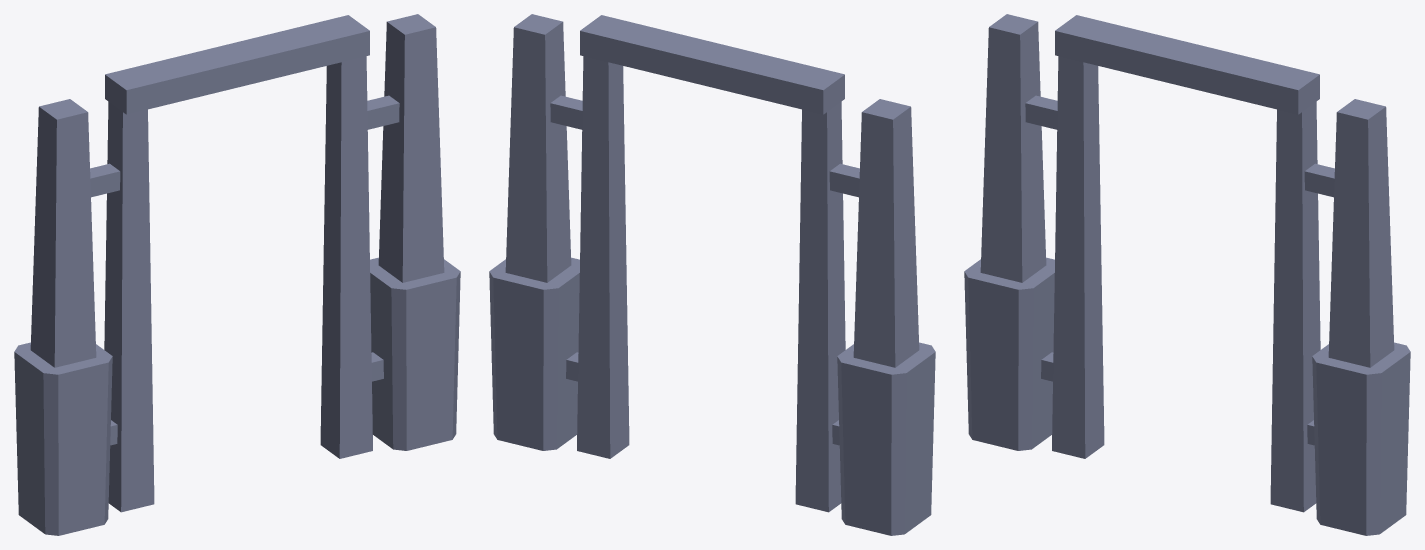
The model's file is structure-metal-doorway.obj.
The picture shows the model from 3 angles, left to right: view 1: azimuth 30°, elevation 25°; view 2: azimuth 150°, elevation 25°; view 3: azimuth 330°, elevation 25°; orthographic projection.
Size of the model in its own units: 0.5354 by 0.5175 by 0.0889.
